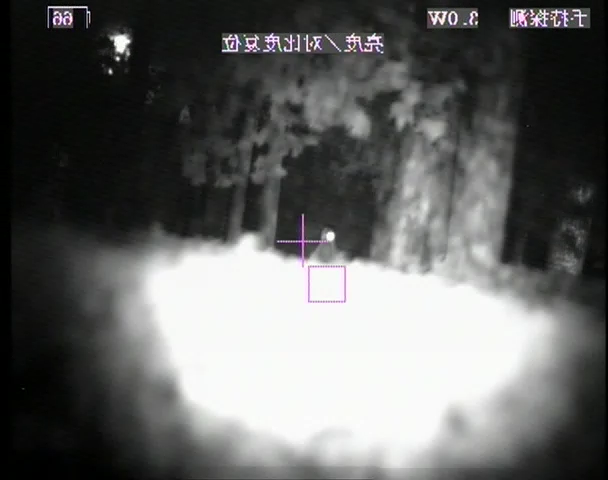my: (325, 230, 335, 241)
